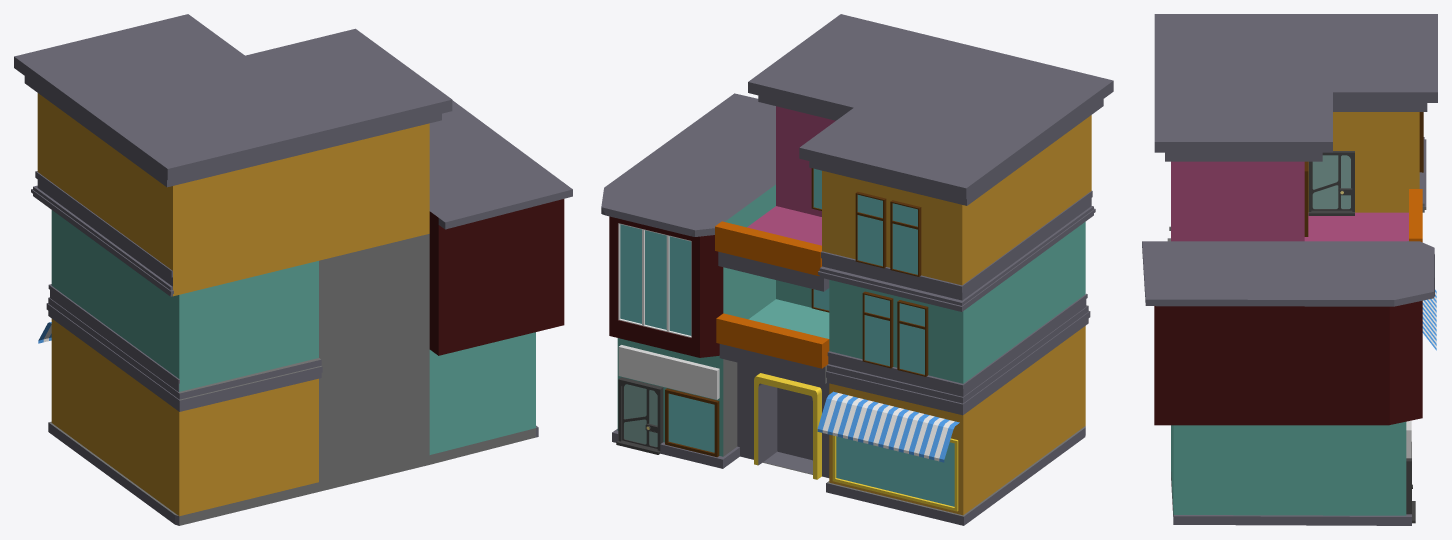
File: Himik_Street_Gawad.fbx
3 views of the same model, side by side, from view 1: azimuth 30°, elevation 25°; view 2: azimuth 150°, elevation 25°; view 3: azimuth 270°, elevation 25° (orthographic). The views are drawn at different scales.
Visible parts, largest first — view 1: GAWAD_Body; view 2: GAWAD_Body, GAWAD_Window_1, GAWAD_Awning, GAWAD_Window_2, GAWAD_Window_3, Sign, Main_Door.002, GAWAD_Window_6; view 3: GAWAD_Body, Main_Door.004, GAWAD_Awning, Main_Door.002, GAWAD_Window_4.
Boxes of the visible parts, x1,y1,x2,y2 form: GAWAD_Body: (14, 14, 572, 525); GAWAD_Body: (601, 14, 1113, 525); GAWAD_Window_1: (618, 223, 691, 337); GAWAD_Awning: (817, 391, 959, 462); GAWAD_Window_2: (862, 291, 928, 376); GAWAD_Window_3: (855, 191, 921, 276); Sign: (618, 345, 719, 399); Main_Door.002: (616, 377, 663, 454); GAWAD_Window_6: (665, 388, 719, 457); GAWAD_Body: (1142, 14, 1437, 525); Main_Door.004: (1308, 151, 1354, 215); GAWAD_Awning: (1422, 289, 1436, 350); Main_Door.002: (1406, 442, 1415, 523); GAWAD_Window_4: (1304, 161, 1308, 236).
Bounding box in the file's own units: 2763 × 1912 × 2425.
Materials: 10 (10 with a texture image).
